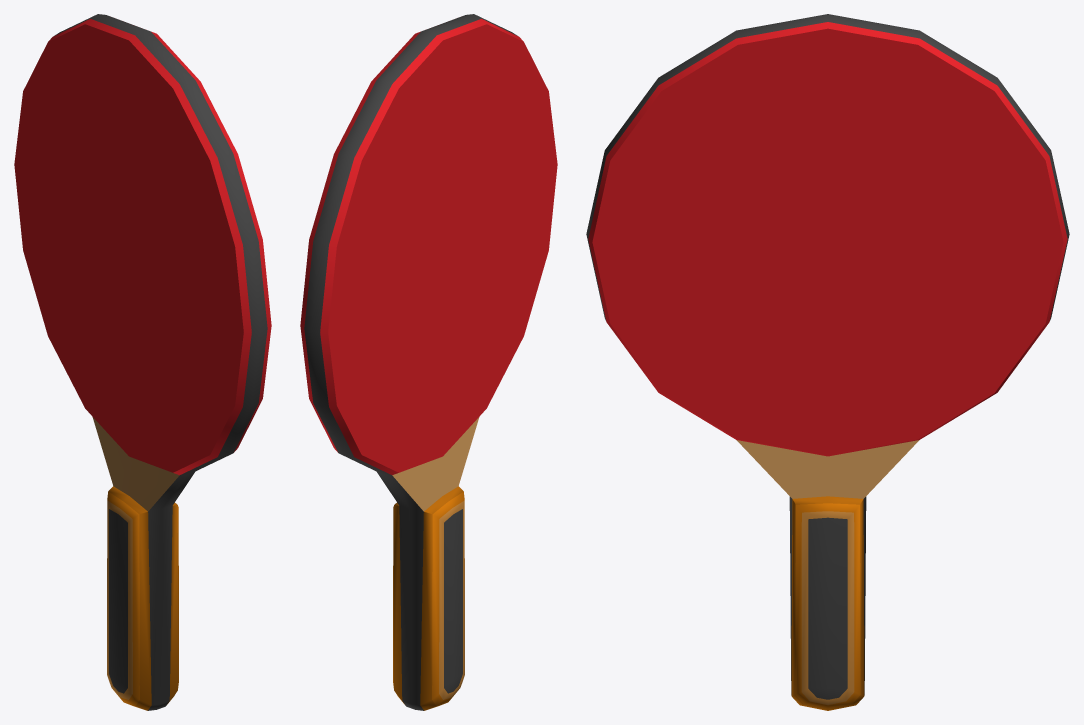
File: Ping Pong Racket01.fbx
3 views of the same model, side by side, from view 1: azimuth 30°, elevation 25°; view 2: azimuth 150°, elevation 25°; view 3: azimuth 270°, elevation 25° (orthographic). The views are drawn at different scales.
Visible parts, largest first — view 1: Ping Pong Racket01; view 2: Ping Pong Racket01; view 3: Ping Pong Racket01.
Part boxes in pixels (x1,y1,x2,y2): Ping Pong Racket01: [14, 14, 271, 710]; Ping Pong Racket01: [300, 14, 557, 710]; Ping Pong Racket01: [586, 14, 1069, 710].
Size of the model in its own units: 0.0168 by 0.1397 by 0.2207.
